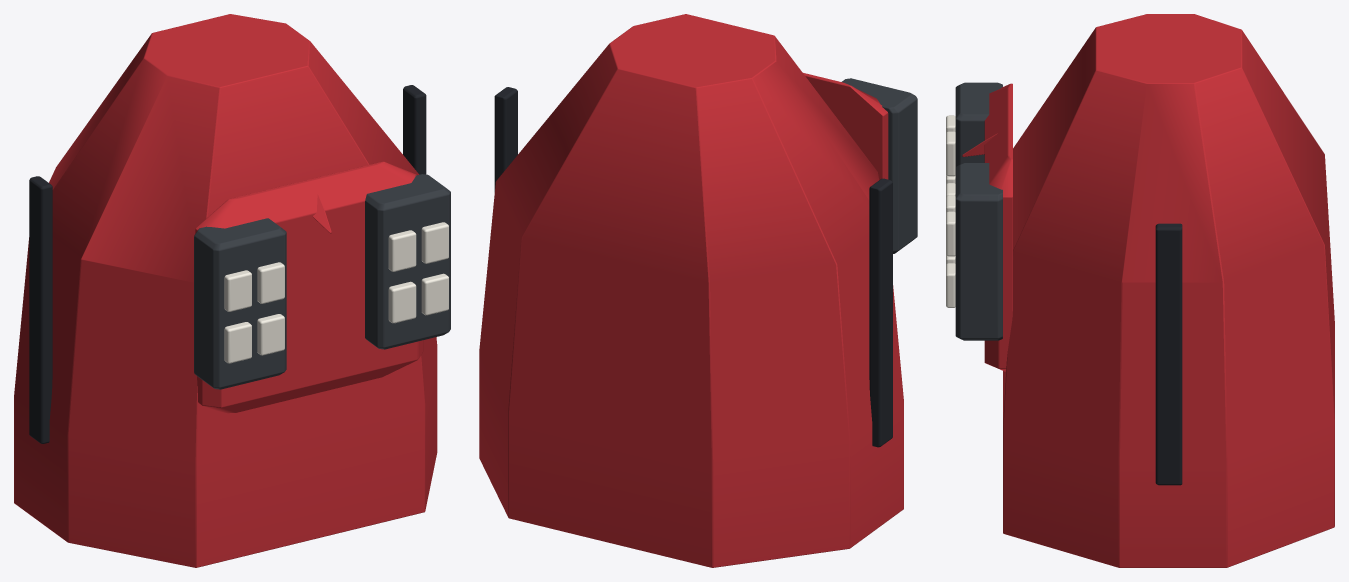
File: QuadBodyFront_Set07_Salvo.fbx
3 views of the same model, side by side, from view 1: azimuth 30°, elevation 25°; view 2: azimuth 150°, elevation 25°; view 3: azimuth 270°, elevation 25° (orthographic).
Visible parts, largest first — view 1: QuadBodyFront_Set07_Salvo; view 2: QuadBodyFront_Set07_Salvo; view 3: QuadBodyFront_Set07_Salvo.
Boxes of the visible parts, box(x1,y1,x2,y2) form: QuadBodyFront_Set07_Salvo: box(14, 14, 450, 567); QuadBodyFront_Set07_Salvo: box(479, 14, 917, 567); QuadBodyFront_Set07_Salvo: box(946, 14, 1334, 567).
Size of the model in its own units: 0.94 by 1 by 0.82.
